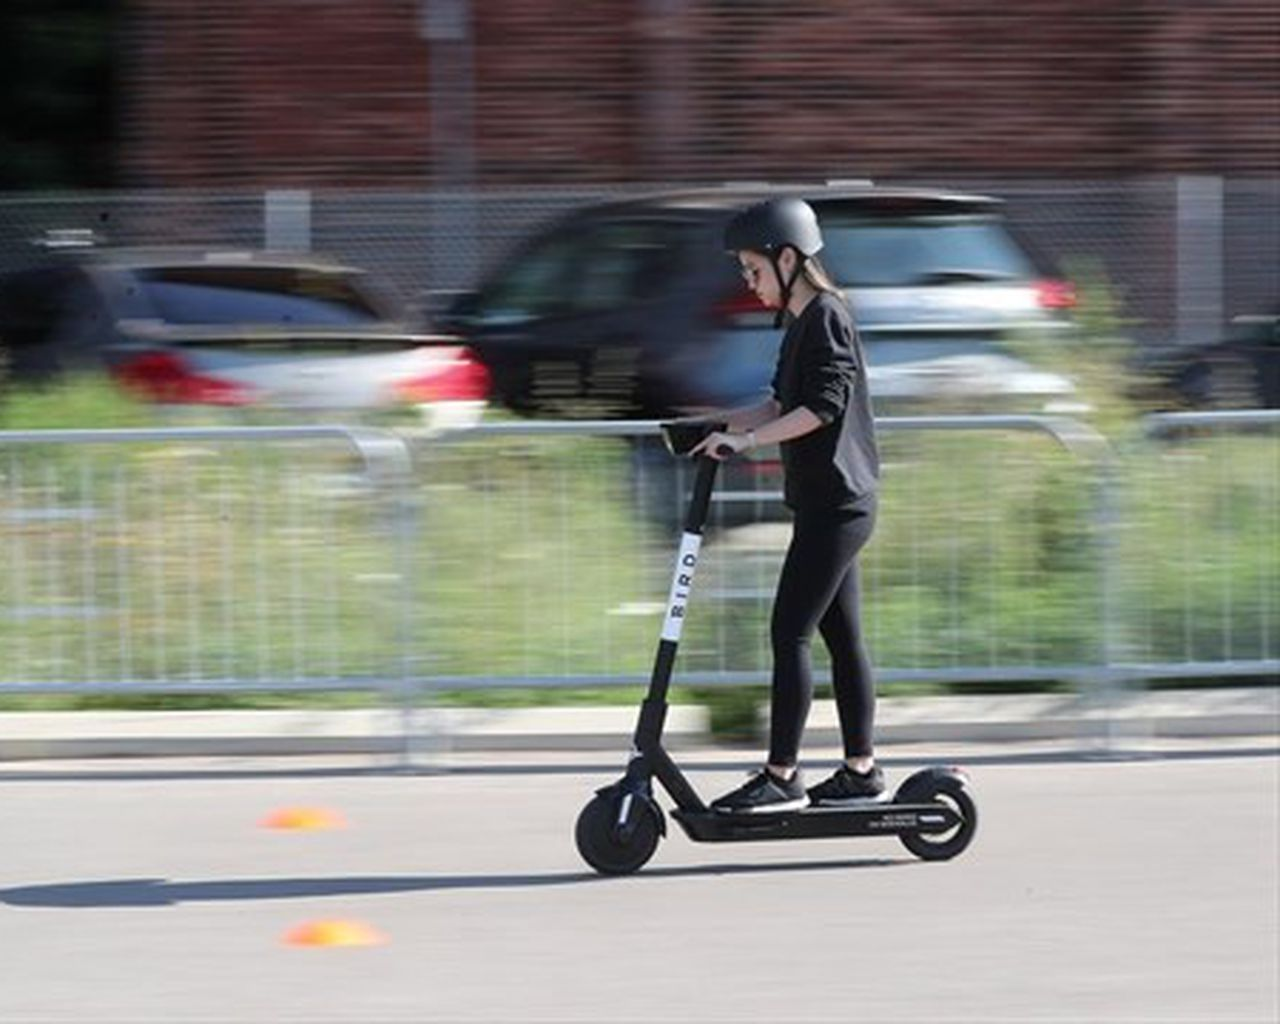scooter: (571, 419, 982, 886)
with helmet: (734, 191, 828, 317)
